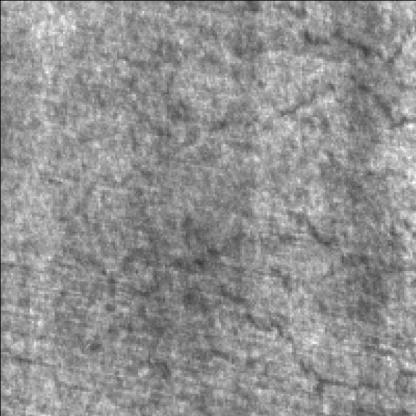crazing: (185, 208, 370, 397), (120, 31, 410, 142)
